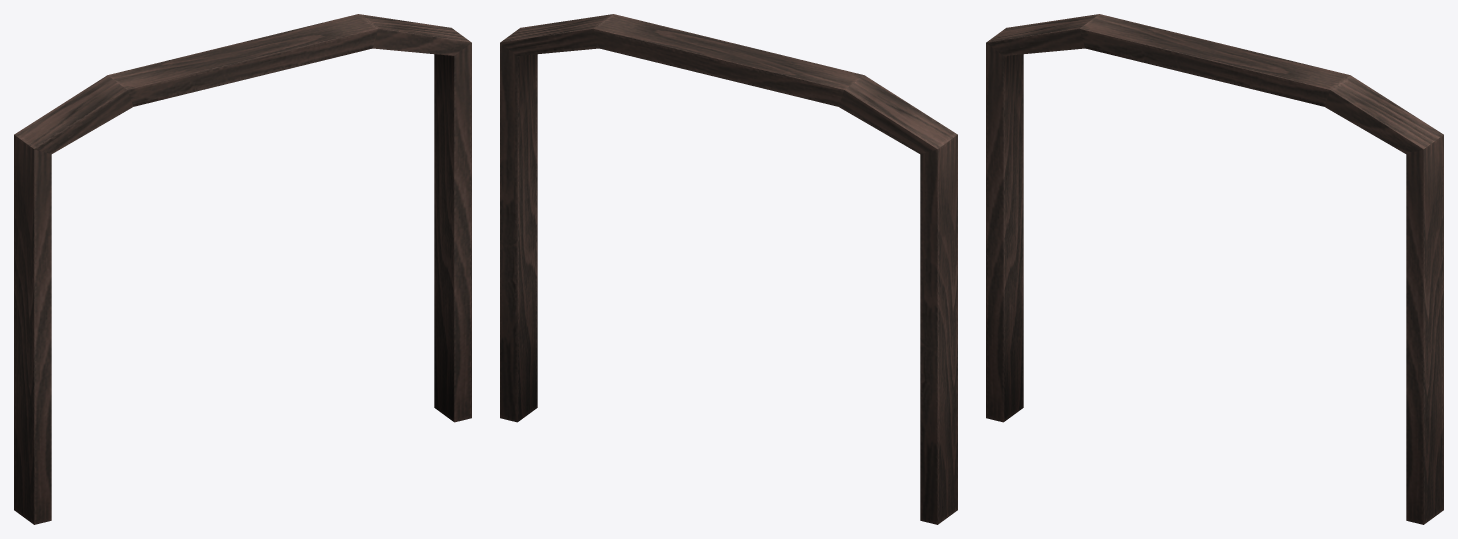
File: Archway_3x3_Big.fbx
3 renders of one model, left to right at view 1: azimuth 30°, elevation 25°; view 2: azimuth 150°, elevation 25°; view 3: azimuth 330°, elevation 25°, orthographic.
Visible parts, largest first — view 1: Archway_3x3_Big; view 2: Archway_3x3_Big; view 3: Archway_3x3_Big.
Boxes of the visible parts, box(x1,y1,x2,y2) form: Archway_3x3_Big: box(14, 14, 471, 524); Archway_3x3_Big: box(500, 14, 957, 524); Archway_3x3_Big: box(986, 14, 1443, 524).
Size of the model in its own units: 250 by 225 by 20.
